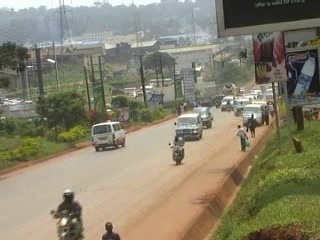Car: (190, 103, 213, 127), (218, 93, 236, 112)
Motorcycle: (45, 187, 90, 240), (164, 133, 187, 166), (224, 99, 231, 111)
